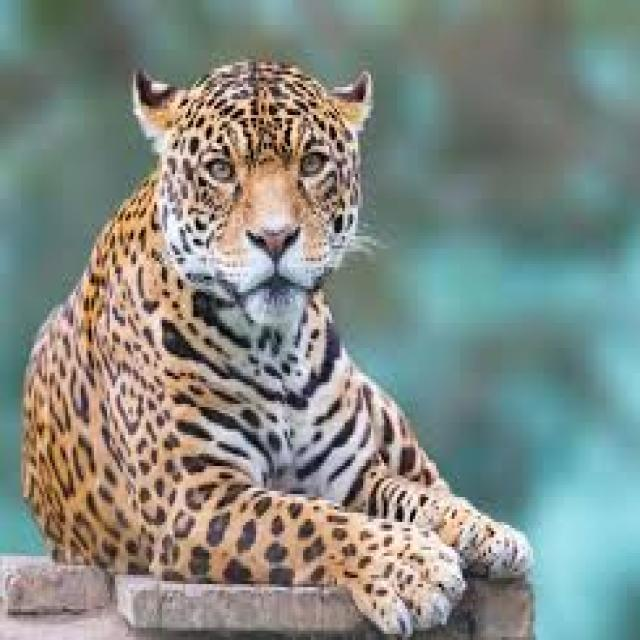Jaguar: (10, 56, 546, 621)
